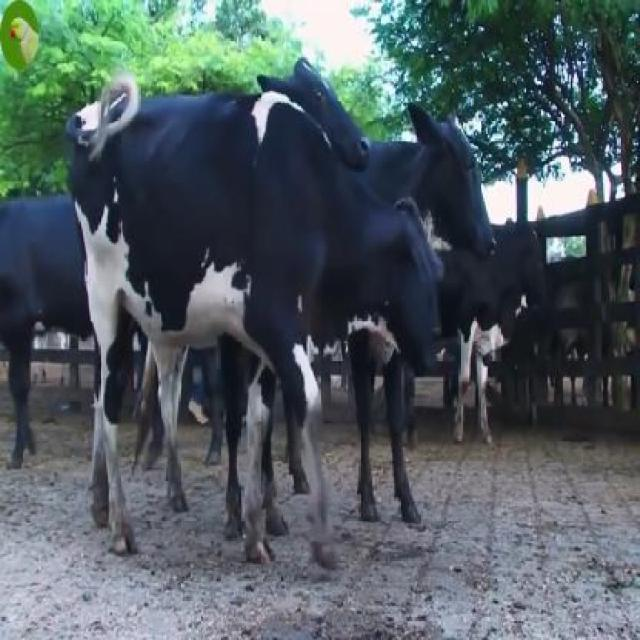Cow: (71, 94, 432, 569)
